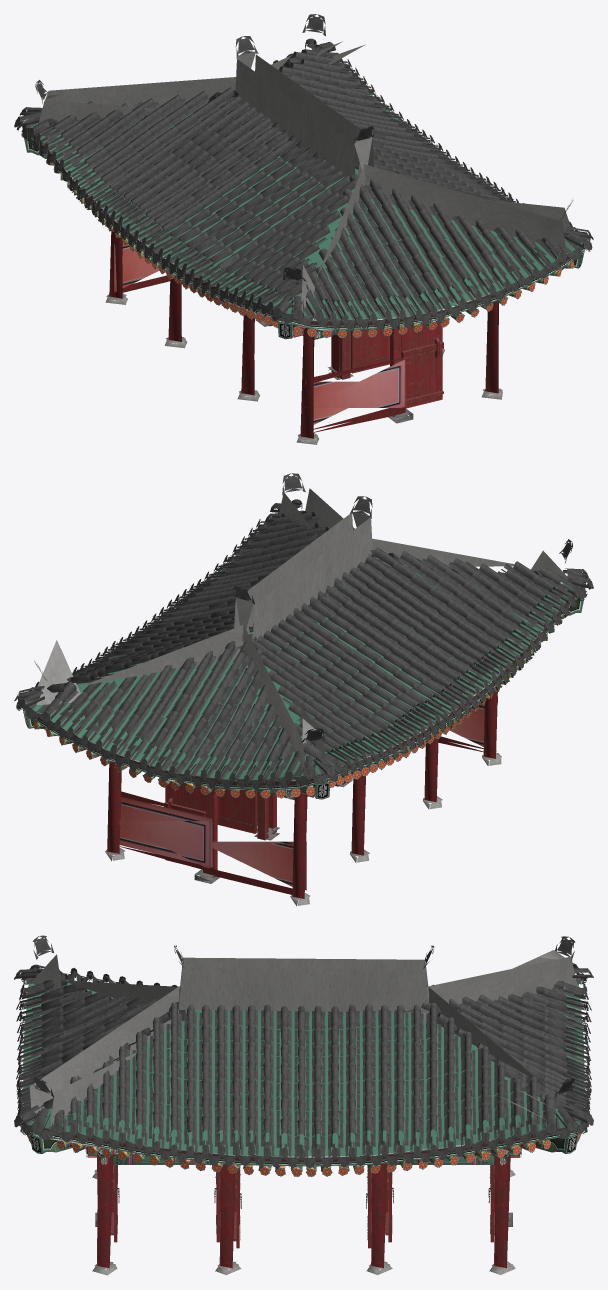
The model's file is jungdae.glb.
3 views of the same model, one above another, from view 1: azimuth 30°, elevation 25°; view 2: azimuth 150°, elevation 25°; view 3: azimuth 270°, elevation 25° (orthographic). The views are drawn at different scales.
Visible parts, largest first — view 1: 23_Chungdaemun, 23_Chungdaemun_gate_0.001; view 2: 23_Chungdaemun, 23_Chungdaemun_gate_0.001; view 3: 23_Chungdaemun, 23_Chungdaemun_gate_0.001.
Part boxes in pixels (box(x1,y1,x2,y2)): 23_Chungdaemun: box(14, 14, 593, 444); 23_Chungdaemun_gate_0.001: box(390, 328, 443, 416); 23_Chungdaemun: box(14, 473, 593, 906); 23_Chungdaemun_gate_0.001: box(164, 781, 217, 877); 23_Chungdaemun: box(14, 935, 593, 1275); 23_Chungdaemun_gate_0.001: box(111, 1165, 494, 1242).
Size of the model in its own units: 7.9 by 6.2 by 11.77.
Materials: 20 (20 with a texture image).
